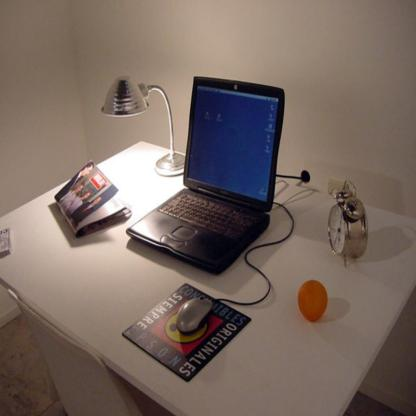board: (127, 74, 286, 276)
